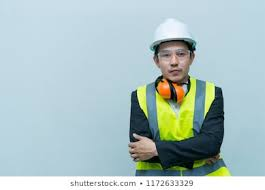Person_wearing_helmet: (146, 13, 201, 63)
